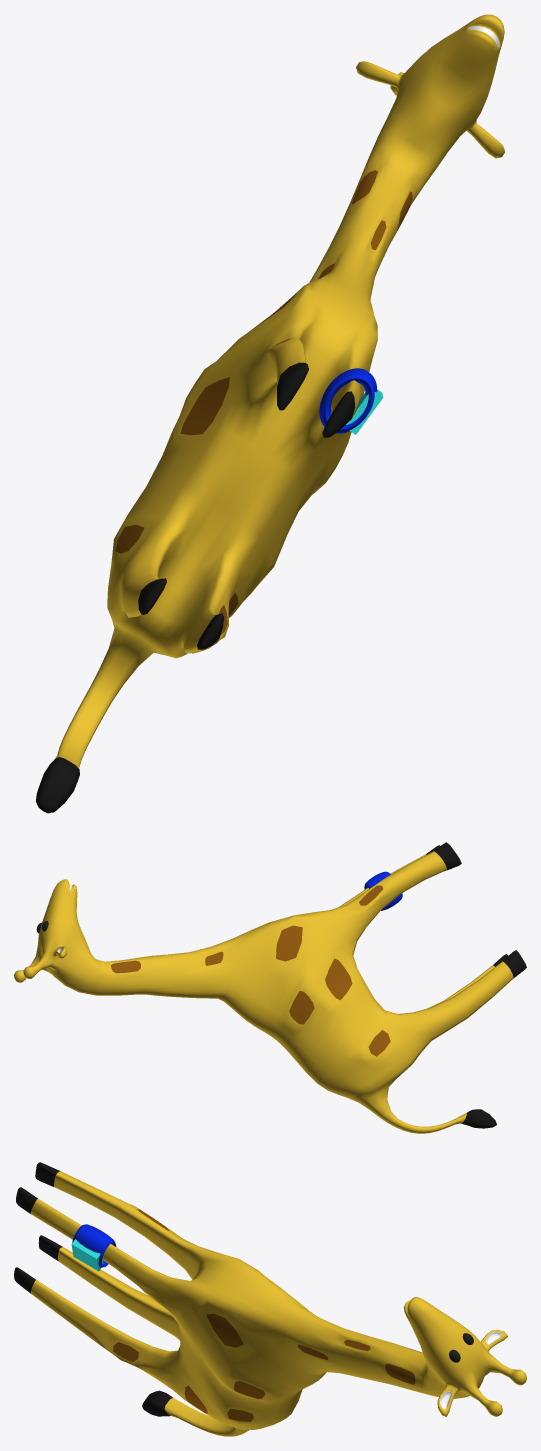
Rendered from giraffeOmgedraaid1.glb.
3 views of the same model, one above another, from view 1: azimuth 30°, elevation 25°; view 2: azimuth 150°, elevation 25°; view 3: azimuth 270°, elevation 25° (orthographic). The views are drawn at different scales.
Parts seen in each view (by area): view 1: Plane, Torus; view 2: Plane; view 3: Plane, Torus, Cube.
Boxes of the visible parts, bbox=[...] form: Plane: bbox=[36, 14, 504, 813]; Torus: bbox=[319, 368, 377, 433]; Plane: bbox=[14, 842, 526, 1133]; Plane: bbox=[14, 1162, 526, 1436]; Torus: bbox=[72, 1224, 116, 1267]; Cube: bbox=[71, 1239, 103, 1271].
Size of the model in its own units: 2.08 by 1.39 by 2.04.
